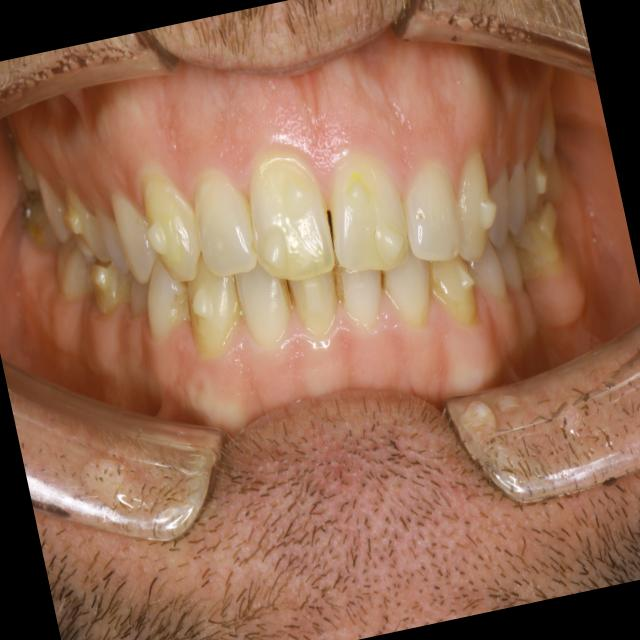tooth: (222, 126, 352, 300), (305, 131, 430, 297), (173, 149, 276, 292), (379, 125, 472, 281), (120, 150, 216, 301), (429, 124, 506, 268), (169, 247, 259, 367), (222, 248, 309, 362), (273, 244, 356, 354), (372, 232, 453, 341), (48, 170, 120, 282), (100, 177, 169, 293), (132, 247, 203, 359), (323, 235, 399, 337), (81, 185, 144, 292), (422, 242, 489, 339), (504, 206, 578, 293), (470, 150, 526, 258), (27, 155, 78, 249), (519, 81, 570, 174), (461, 236, 517, 319), (48, 231, 107, 309), (480, 218, 531, 304), (83, 250, 140, 325), (494, 148, 540, 240), (513, 144, 558, 226), (2, 129, 46, 199), (19, 196, 64, 258), (116, 259, 155, 328), (534, 148, 571, 207)
